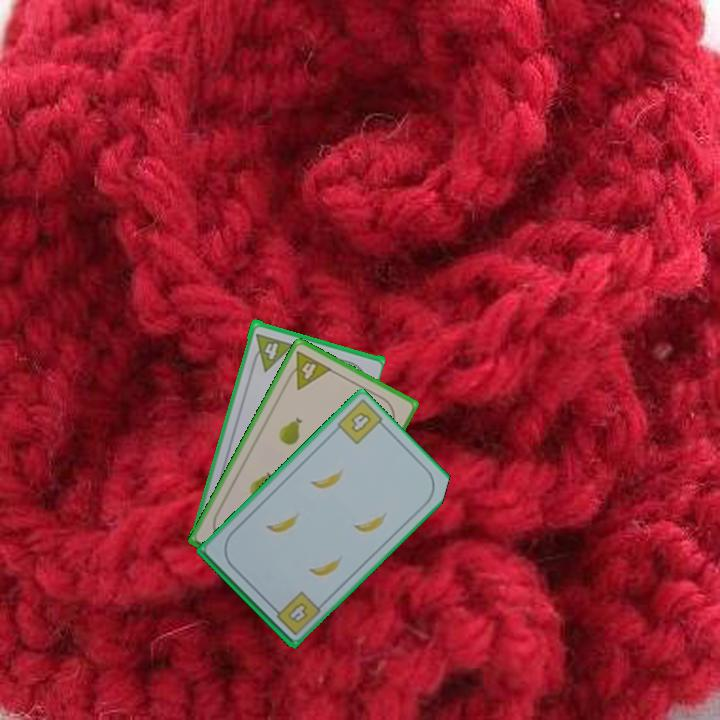4b: (268, 588, 323, 638), (347, 408, 374, 435)
4p: (282, 347, 334, 393), (260, 337, 295, 373)
